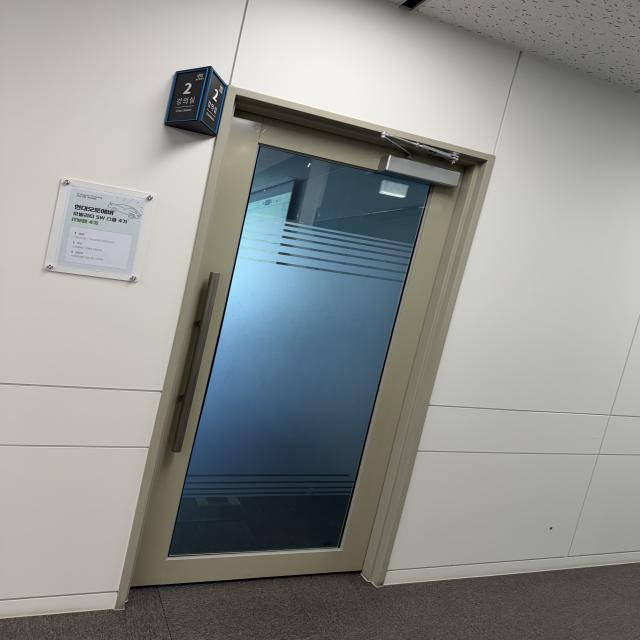room2: (165, 67, 226, 136)
